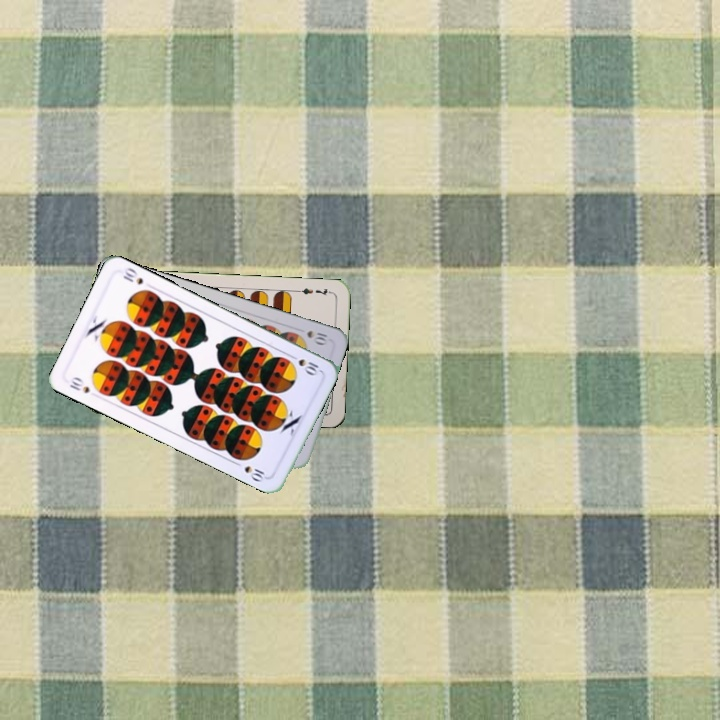E7: (294, 284, 334, 298)
S10: (285, 350, 321, 378), (65, 373, 92, 396), (303, 326, 330, 348)
